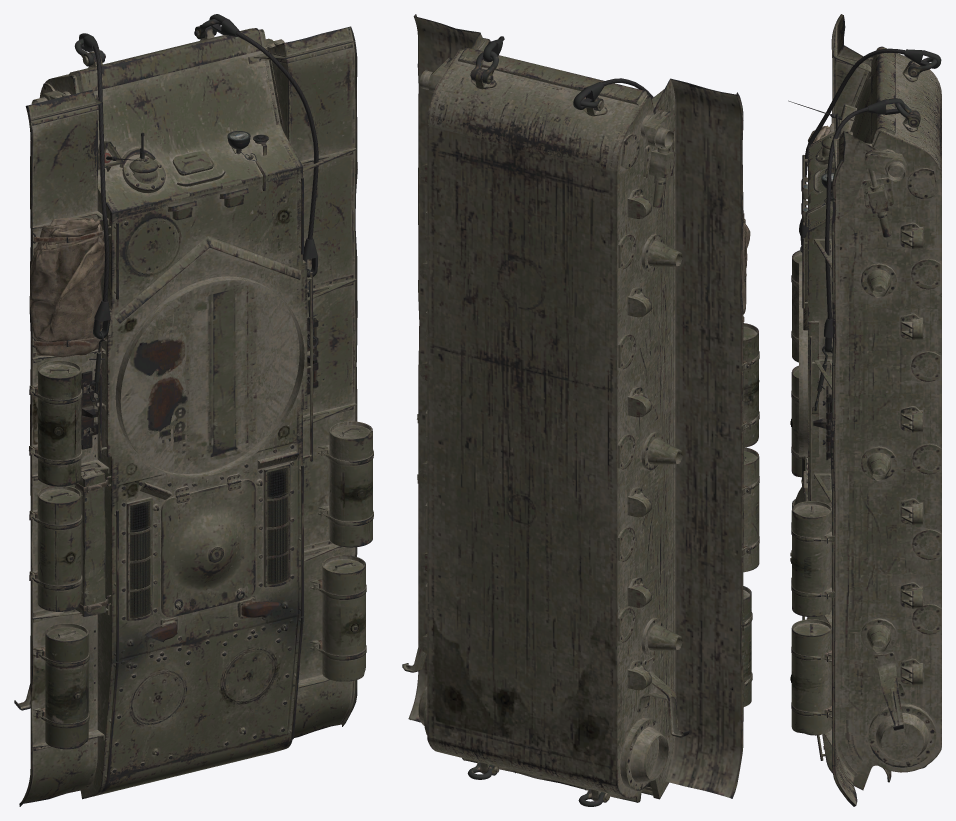
File: Hull.glb
3 renders of one model, left to right at view 1: azimuth 30°, elevation 25°; view 2: azimuth 150°, elevation 25°; view 3: azimuth 270°, elevation 25°, orthographic. The views are drawn at different scales.
Visible parts, largest first — view 1: set_0_group_0; view 2: set_0_group_0; view 3: set_0_group_0.
Part boxes in pixels (x1=…): set_0_group_0: x1=14, y1=14, x2=373, y2=806; set_0_group_0: x1=402, y1=14, x2=759, y2=806; set_0_group_0: x1=788, y1=14, x2=941, y2=806.
Bounding box in the file's own units: 3.24 × 6.78 × 1.4.
Materials: 1 (1 with a texture image).
